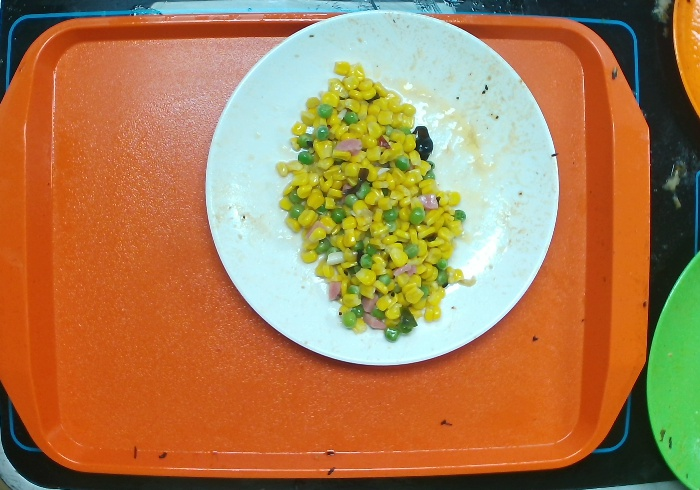HZYJPL-Bai_Se_Yuan_Pan: (205, 1, 574, 370)
